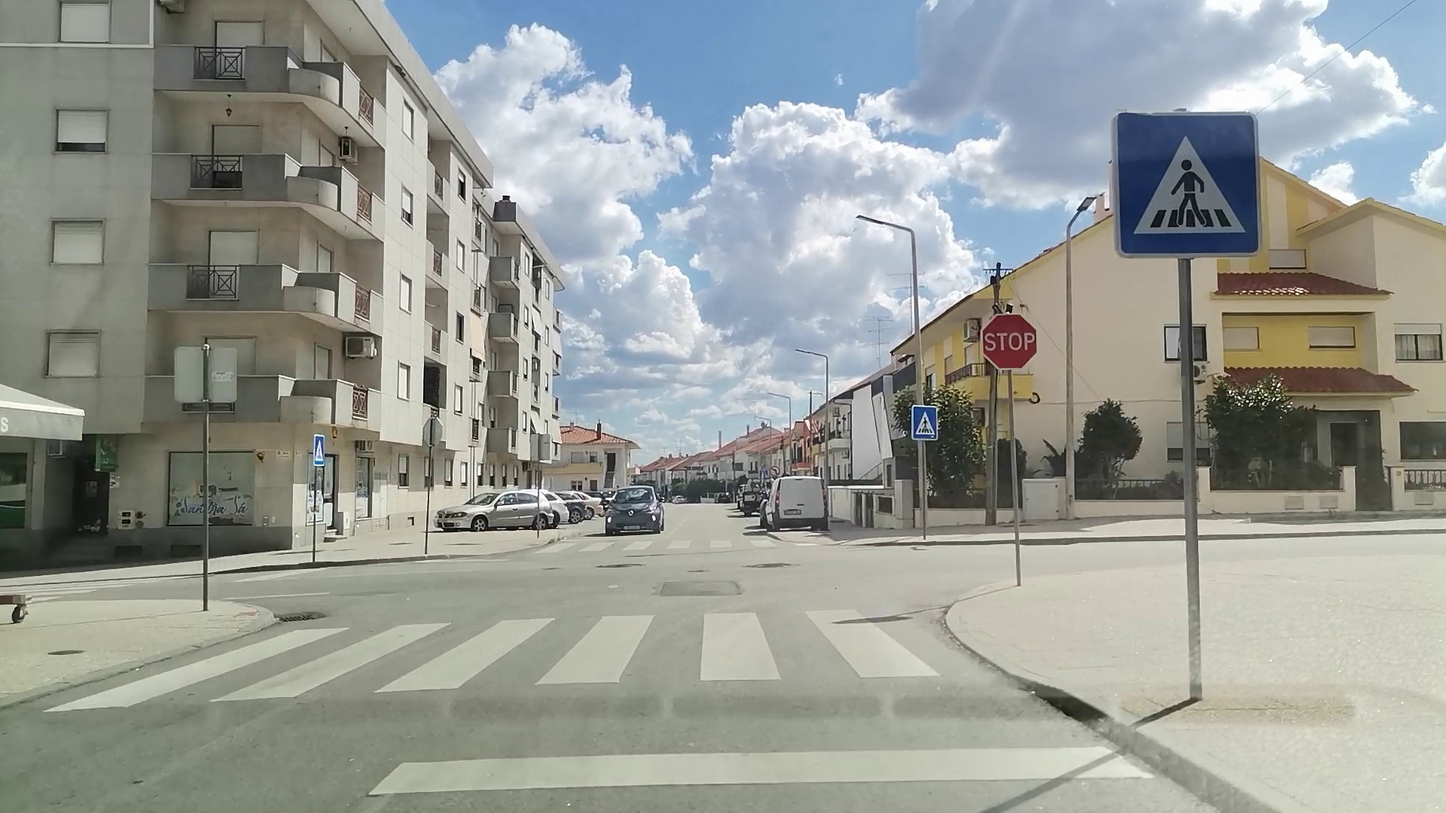Stairs: (58, 606, 943, 710), (539, 537, 818, 555)
